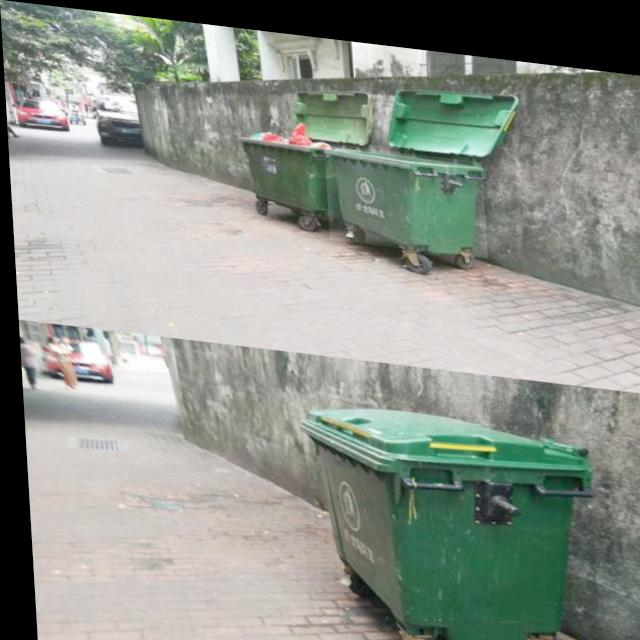garbage_bin: (292, 390, 593, 640), (323, 136, 486, 246)
overflow: (233, 108, 335, 208)
